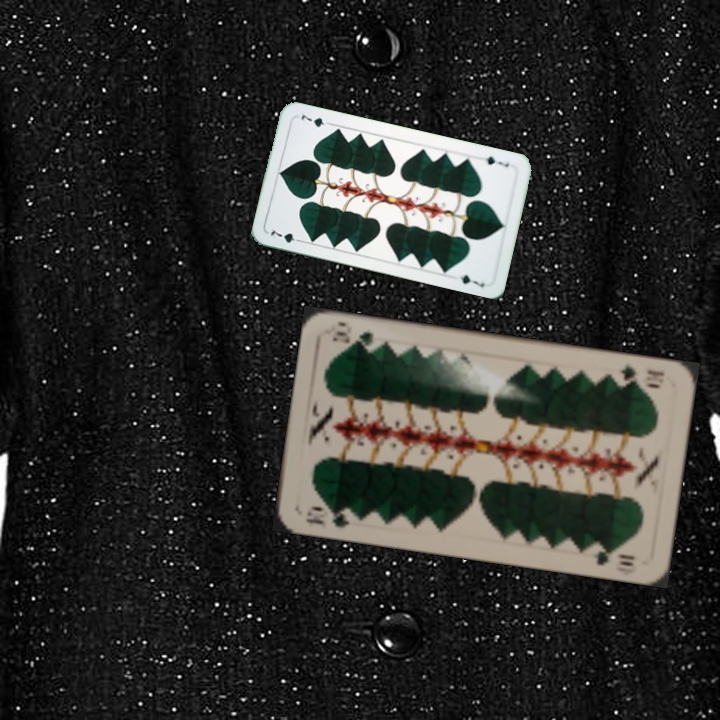G10: (617, 361, 667, 388), (302, 503, 352, 530)
G7: (267, 226, 306, 246), (477, 152, 512, 170)
